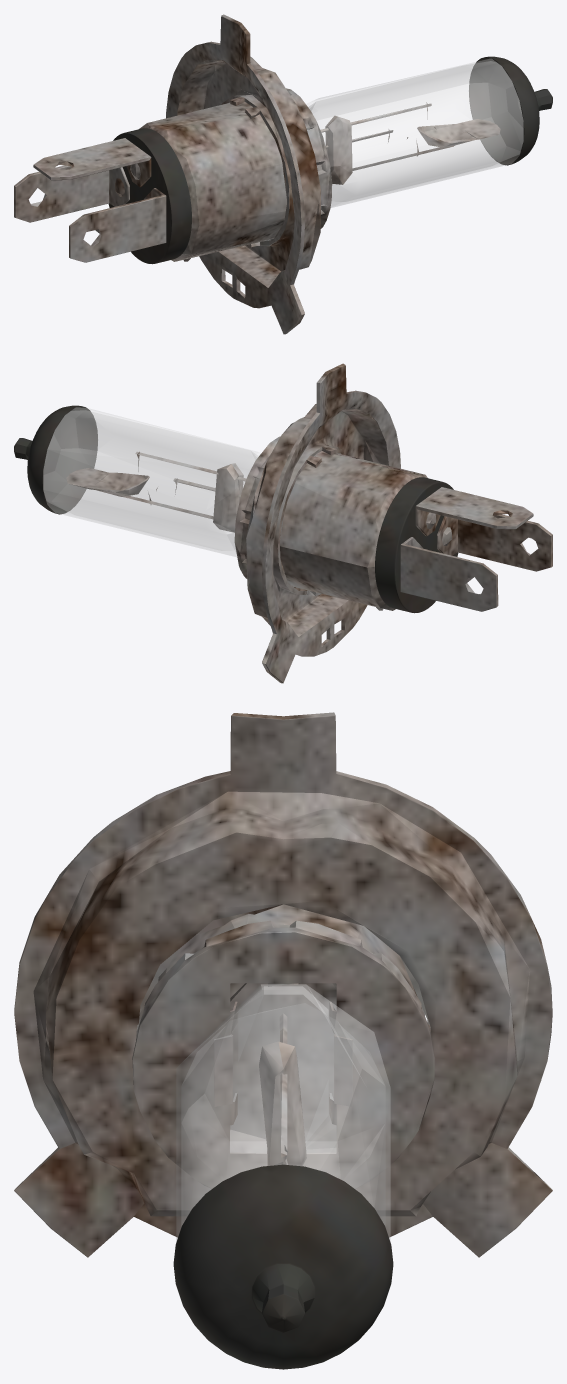
The model's file is item_light_bulb.glb.
3 views of the same model, one above another, from view 1: azimuth 30°, elevation 25°; view 2: azimuth 150°, elevation 25°; view 3: azimuth 270°, elevation 25° (orthographic). The views are drawn at different scales.
Parts seen in each view (by area): view 1: item_light_bulb; view 2: item_light_bulb; view 3: item_light_bulb.
Part boxes in pixels (x1,y1,x2,y2): item_light_bulb: [14, 14, 552, 334]; item_light_bulb: [14, 363, 552, 683]; item_light_bulb: [14, 712, 552, 1369].
Bounding box in the file's own units: 0.0931 × 0.0477 × 0.043.
Materials: 3 (2 with a texture image).
